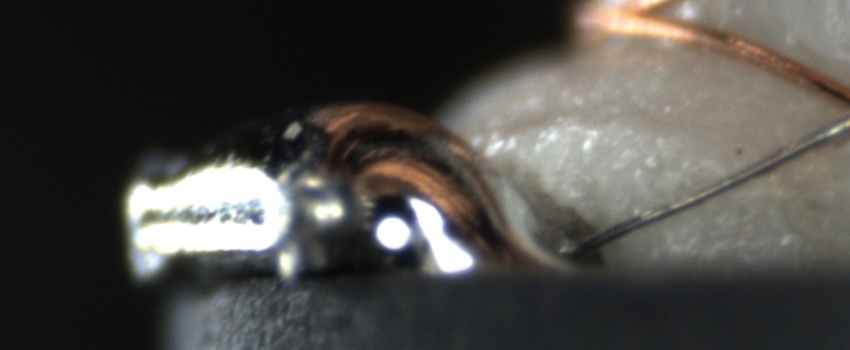TS: (575, 116, 850, 254)
